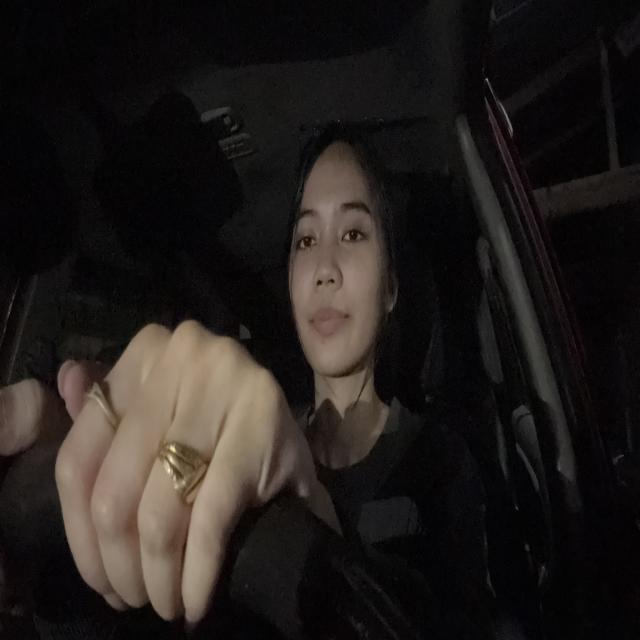open: (339, 198, 373, 248), (294, 206, 318, 258)
